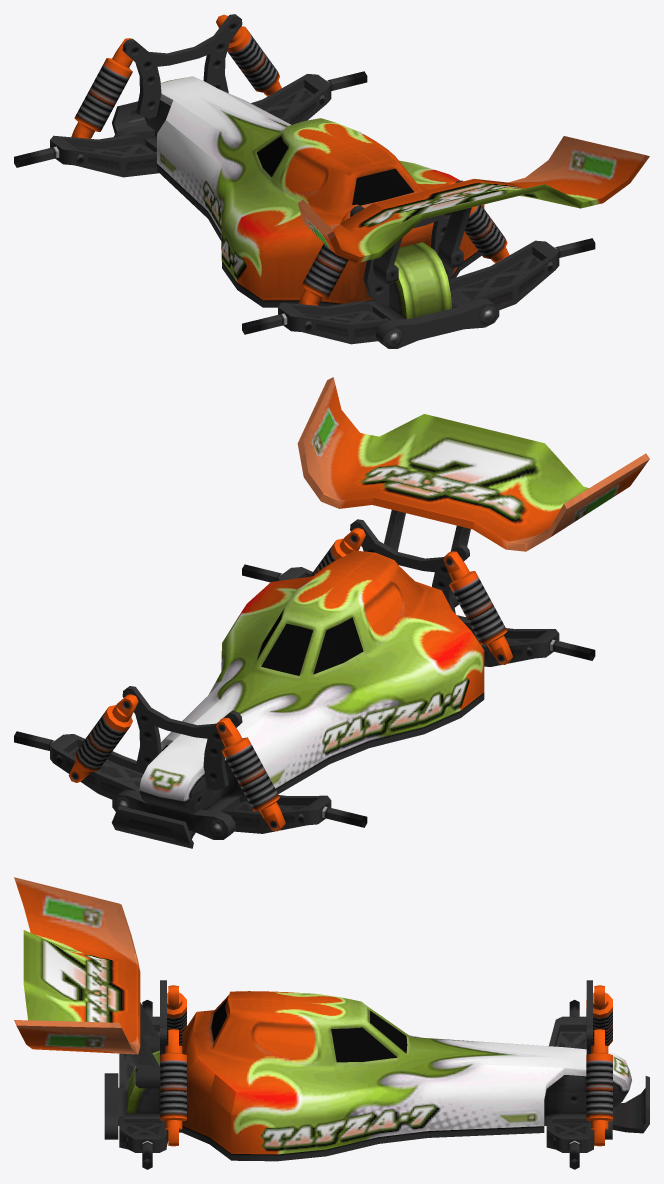
The model's file is Car4.fbx.
The picture shows the model from 3 angles, top to bottom: view 1: azimuth 30°, elevation 25°; view 2: azimuth 150°, elevation 25°; view 3: azimuth 270°, elevation 25°; orthographic projection. The views are drawn at different scales.
Parts seen in each view (by area): view 1: Imported_OBJ_Object; view 2: Imported_OBJ_Object; view 3: Imported_OBJ_Object.
Part boxes in pixels (x1,y1,x2,y2): Imported_OBJ_Object: (14,14,649,348); Imported_OBJ_Object: (14,377,649,848); Imported_OBJ_Object: (14,877,649,1169).
Bounding box in the file's own units: 165 × 82.79 × 278.
